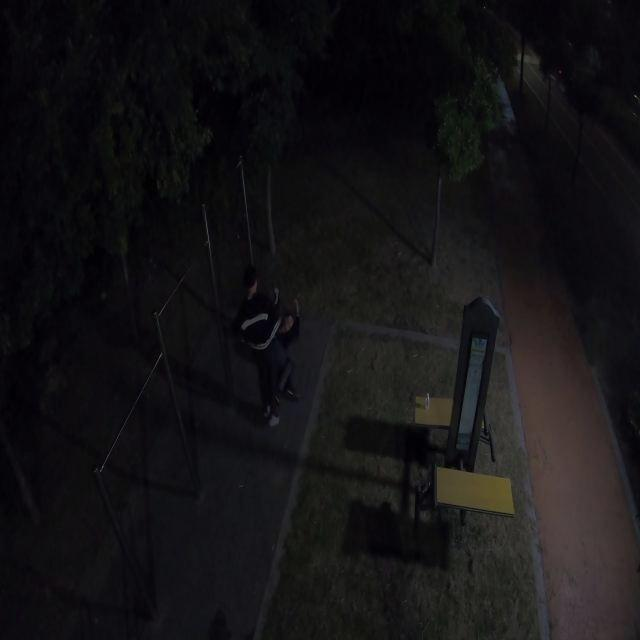fight: (230, 262, 305, 434)
